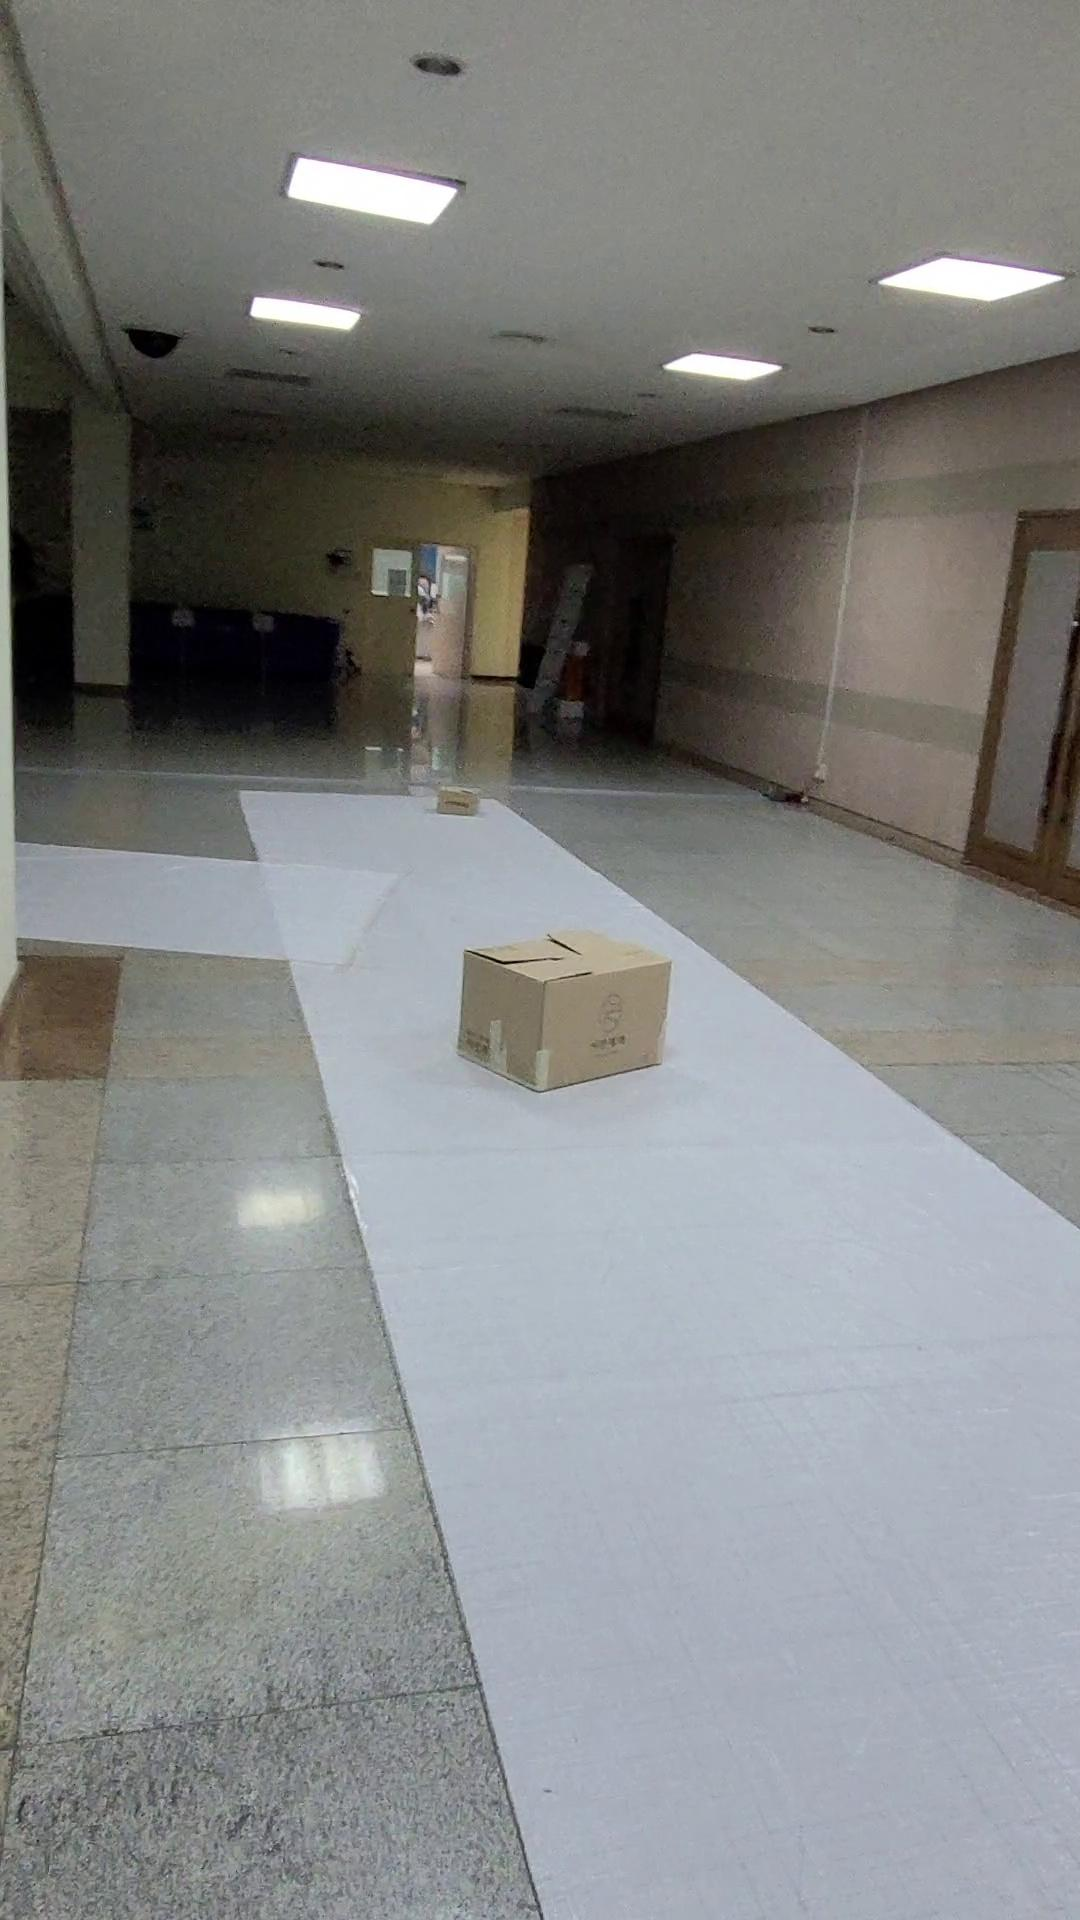Box: (433, 923, 713, 1135), (406, 760, 525, 851)
